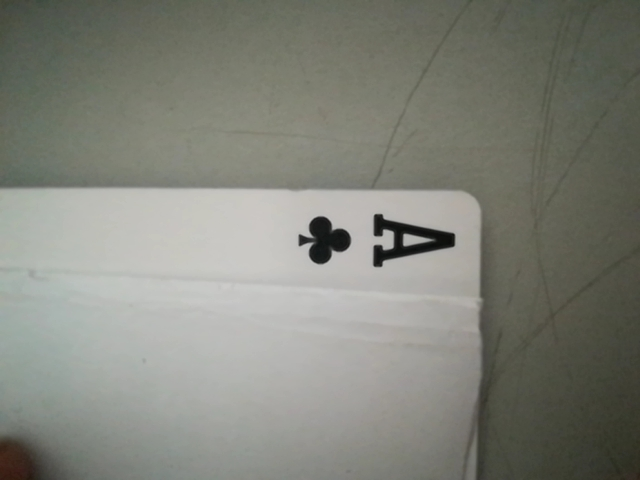mh a: (286, 202, 474, 280)
